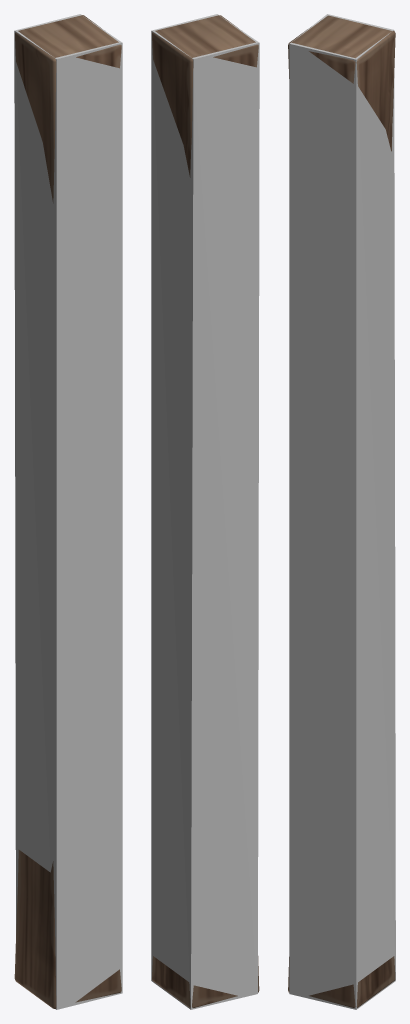
File: SM_Hangar01B_4.fbx
3 renders of one model, left to right at view 1: azimuth 30°, elevation 25°; view 2: azimuth 210°, elevation 25°; view 3: azimuth 330°, elevation 25°, orthographic.
Parts seen in each view (by area): view 1: SM_Hangar01B_4_ConvexHulls, SM_Hangar01B_4; view 2: SM_Hangar01B_4_ConvexHulls, SM_Hangar01B_4; view 3: SM_Hangar01B_4_ConvexHulls, SM_Hangar01B_4.
Part boxes in pixels (bbox=[...]): SM_Hangar01B_4_ConvexHulls: bbox=[14, 14, 122, 1009]; SM_Hangar01B_4: bbox=[14, 15, 121, 1008]; SM_Hangar01B_4_ConvexHulls: bbox=[151, 14, 259, 1009]; SM_Hangar01B_4: bbox=[152, 15, 259, 1007]; SM_Hangar01B_4_ConvexHulls: bbox=[289, 14, 395, 1009]; SM_Hangar01B_4: bbox=[288, 15, 395, 1007].
Size of the model in its own units: 26.83 by 26.99 by 350.
Materials: 2 (1 with a texture image).
